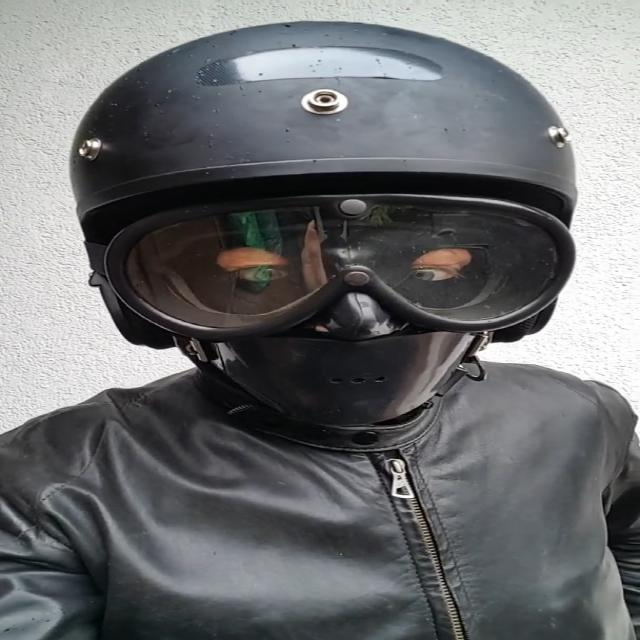Helmet_Wearer: (62, 0, 582, 426)
Jacket_Wearer: (0, 335, 640, 640)
Person: (3, 13, 640, 640)
